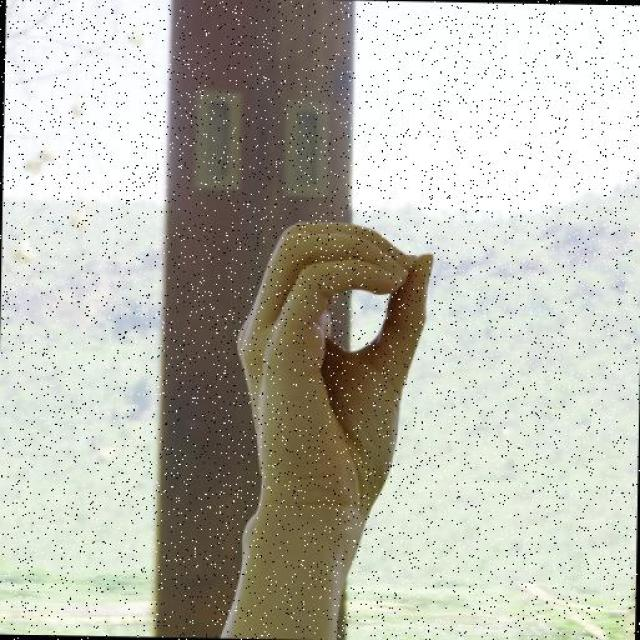O: (186, 190, 465, 590)
